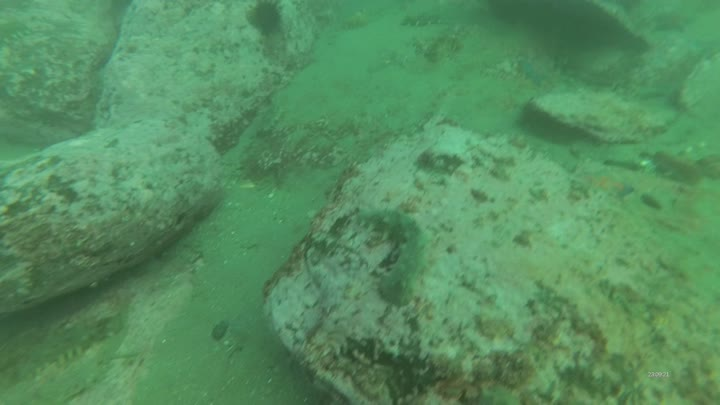echinus: (248, 1, 284, 38)
holothurian: (356, 206, 433, 309), (16, 313, 124, 383), (1, 19, 34, 47), (399, 12, 448, 29)
starfish: (583, 164, 639, 207), (515, 54, 554, 89), (650, 8, 696, 36)
